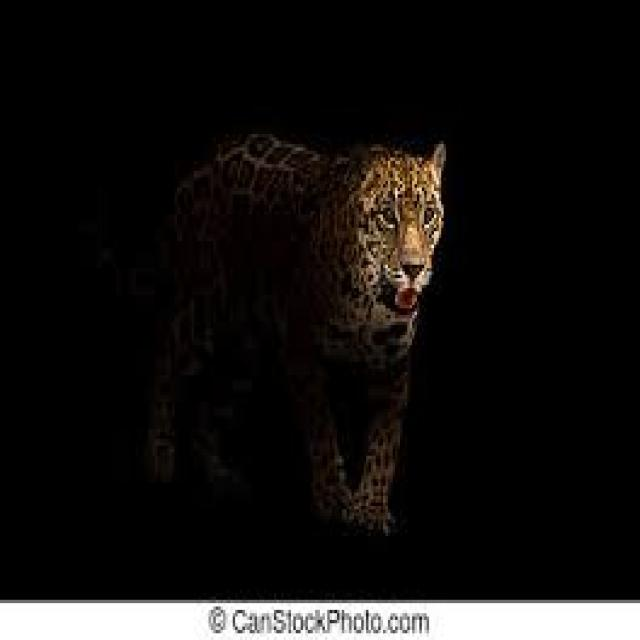Jaguar: (158, 134, 444, 540)
